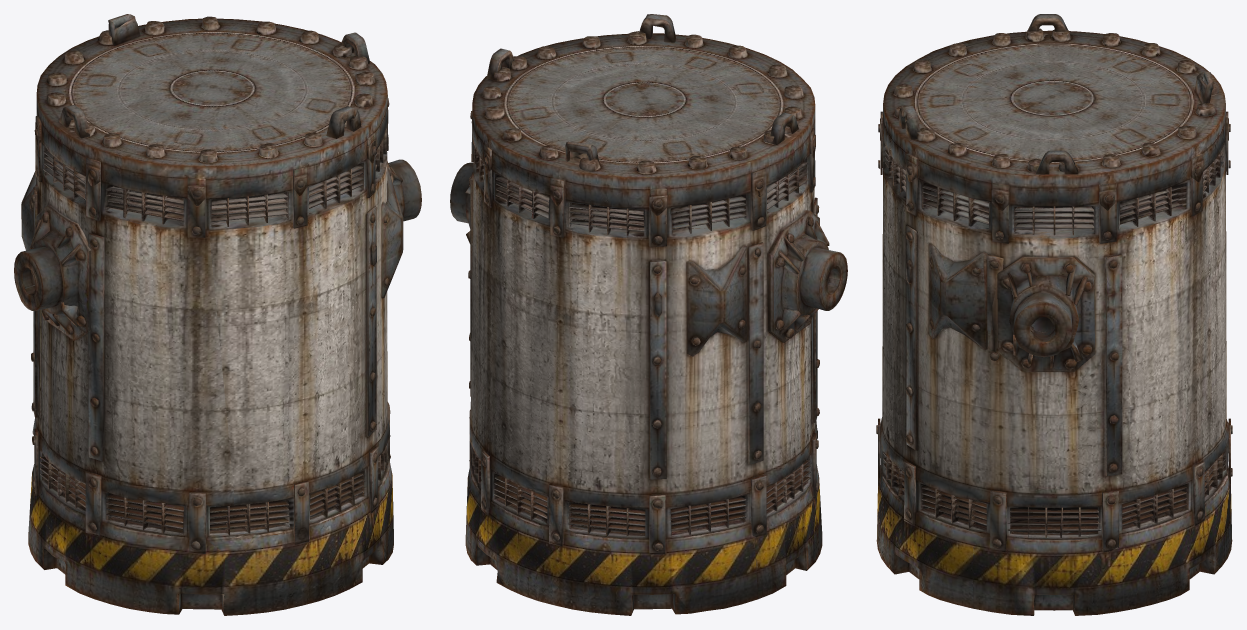
The model's file is reactor-storage-cask.glb.
The picture shows the model from 3 angles, left to right: view 1: azimuth 30°, elevation 25°; view 2: azimuth 150°, elevation 25°; view 3: azimuth 270°, elevation 25°; orthographic projection. The views are drawn at different scales.
Parts seen in each view (by area): view 1: reactor-storage-cask; view 2: reactor-storage-cask; view 3: reactor-storage-cask.
Boxes of the visible parts, <box> form: reactor-storage-cask: <box>14,14,421,615</box>; reactor-storage-cask: <box>450,14,847,615</box>; reactor-storage-cask: <box>876,14,1232,615</box>.
Bounding box in the file's own units: 3.88 × 4.6 × 3.23.
1 material, 1 textured.
